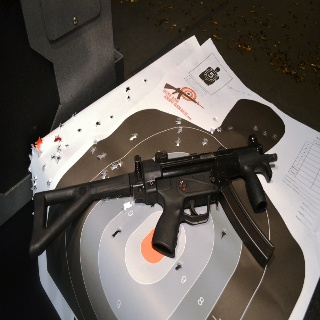rifle: (28, 135, 280, 268)
